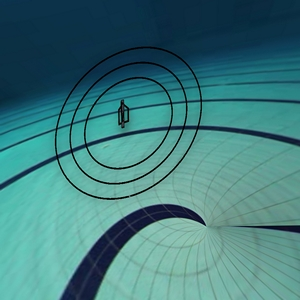circle: (39, 35, 218, 207)
submarine: (105, 94, 147, 140)
